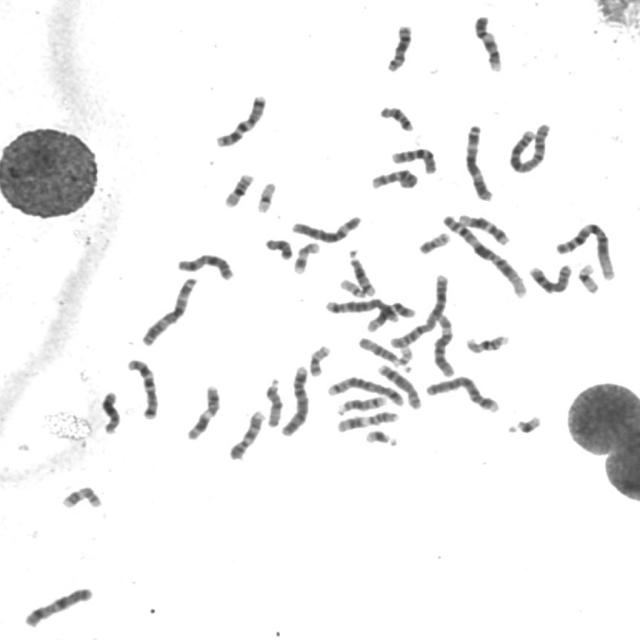A1: (439, 211, 530, 299), (553, 218, 618, 282)
A2: (388, 270, 451, 348), (506, 119, 554, 175)
A3: (138, 274, 200, 348), (462, 121, 496, 202)
B4: (423, 373, 501, 414), (278, 362, 312, 438)
B5: (325, 372, 408, 408), (322, 296, 403, 324)
C10: (388, 144, 439, 175), (367, 166, 420, 191)
C11: (184, 382, 222, 442), (333, 408, 401, 433)
C12: (454, 210, 512, 247), (364, 299, 417, 333)
C6: (289, 213, 364, 244), (430, 311, 458, 378)
C7: (212, 92, 269, 148), (124, 355, 160, 421)
C8: (374, 360, 425, 411), (526, 260, 573, 295)
C9: (226, 407, 267, 461), (471, 12, 505, 73)
D13: (384, 21, 414, 73), (98, 388, 123, 435)
D14: (345, 246, 378, 298), (334, 392, 387, 416)
D15: (356, 334, 408, 367), (262, 374, 285, 428)
E16: (220, 170, 256, 209), (462, 331, 512, 355)
E17: (58, 483, 104, 510), (290, 238, 322, 276)
E18: (377, 102, 416, 132), (262, 235, 295, 261)
F19: (575, 259, 601, 295), (253, 179, 278, 214)
F20: (416, 228, 452, 256), (306, 342, 333, 377)
G21: (506, 412, 544, 436), (362, 427, 399, 448)
G22: (337, 275, 367, 298), (395, 342, 415, 370)
X: (20, 584, 96, 629), (174, 250, 236, 282)
